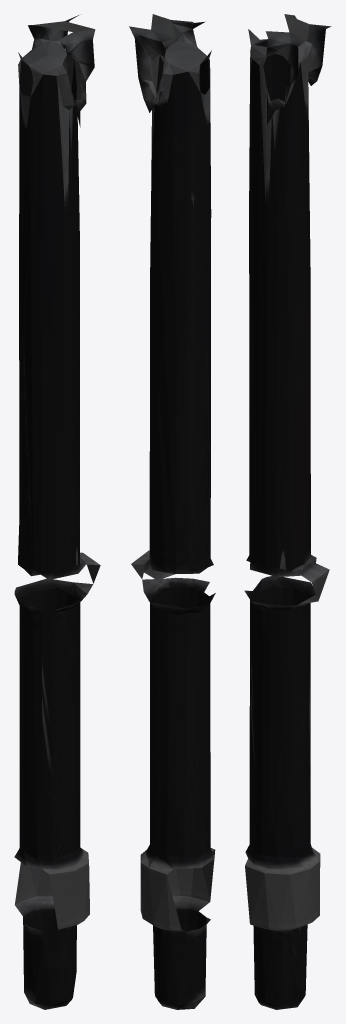
File: ClassicColumn.obj
The picture shows the model from 3 angles, left to right: view 1: azimuth 30°, elevation 25°; view 2: azimuth 150°, elevation 25°; view 3: azimuth 330°, elevation 25°; orthographic projection.
Bounding box in the file's own units: 4.71 × 59.75 × 4.65.
Materials: 1 (1 with a texture image).
